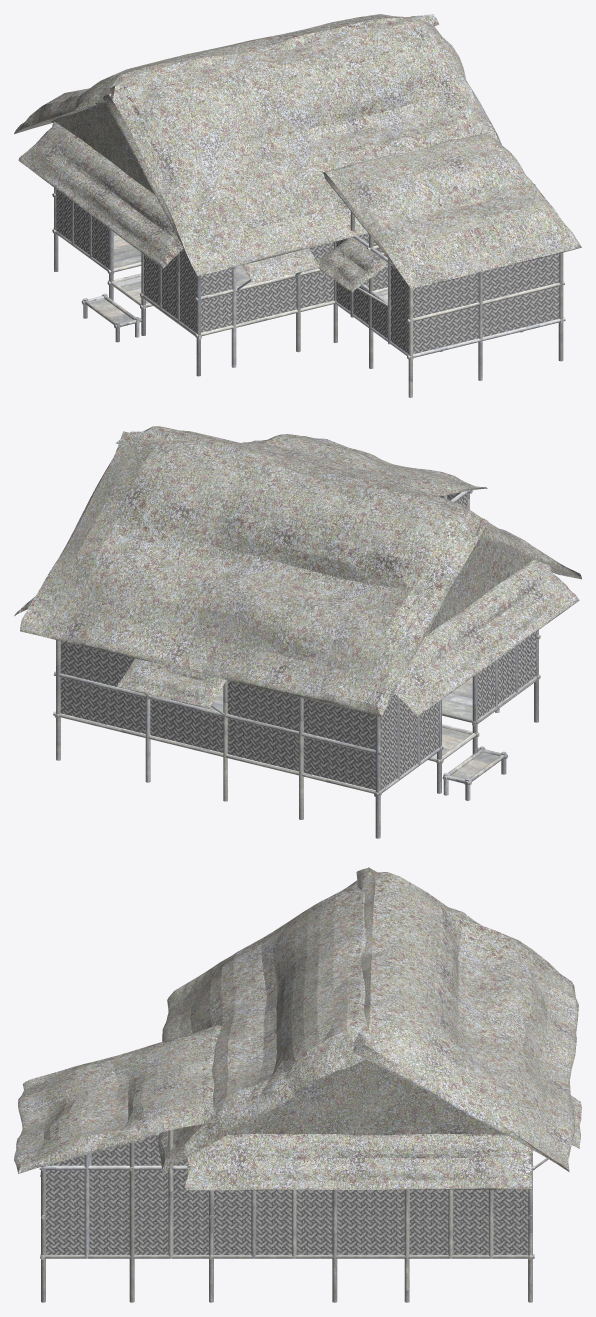
The picture shows the model from 3 angles, top to bottom: view 1: azimuth 30°, elevation 25°; view 2: azimuth 150°, elevation 25°; view 3: azimuth 270°, elevation 25°; orthographic projection. The views are drawn at different scales.
Visible parts, largest first — view 1: 3; view 2: 3; view 3: 3.
Boxes of the visible parts, x1,y1,x2,y2 form: 3: (14,14,581,397); 3: (14,426,581,838); 3: (14,867,581,1302).
Bounding box in the file's own units: 31.76 × 20.48 × 38.16.
Materials: 5 (5 with a texture image).
